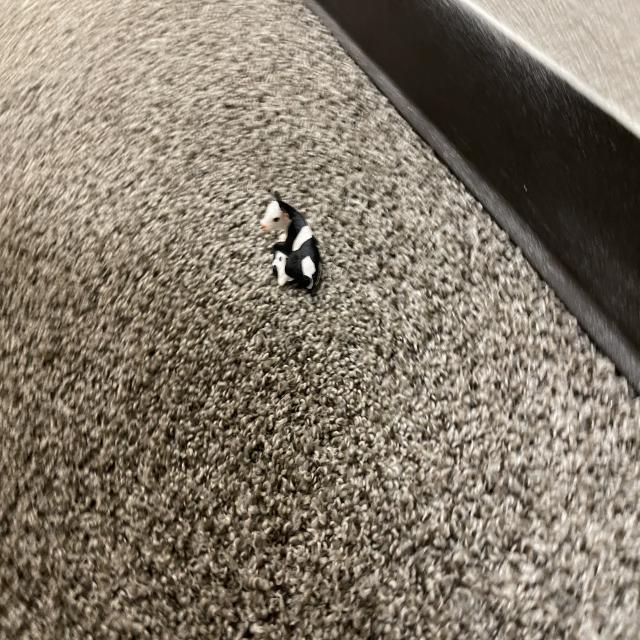cow: (253, 186, 329, 299)
